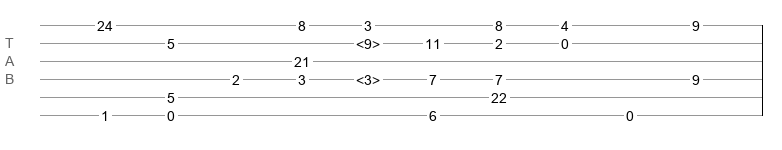0: (167, 108, 175, 118), (561, 36, 569, 46), (626, 108, 634, 118)
1: (101, 108, 109, 118)
11: (425, 36, 441, 46)
2: (232, 72, 240, 82), (495, 36, 503, 46)
21: (294, 54, 310, 64)
22: (491, 90, 507, 100)
24: (97, 18, 113, 28)
3: (298, 72, 306, 82), (364, 18, 372, 28)
4: (561, 18, 569, 28)
5: (167, 90, 175, 100), (167, 36, 175, 46)
6: (429, 108, 437, 118)
7: (429, 72, 437, 82), (495, 72, 503, 82)
8: (298, 18, 306, 28), (495, 18, 503, 28)
9: (692, 18, 700, 28), (692, 72, 700, 82)
harmonic: (356, 72, 380, 82), (356, 36, 380, 46)
